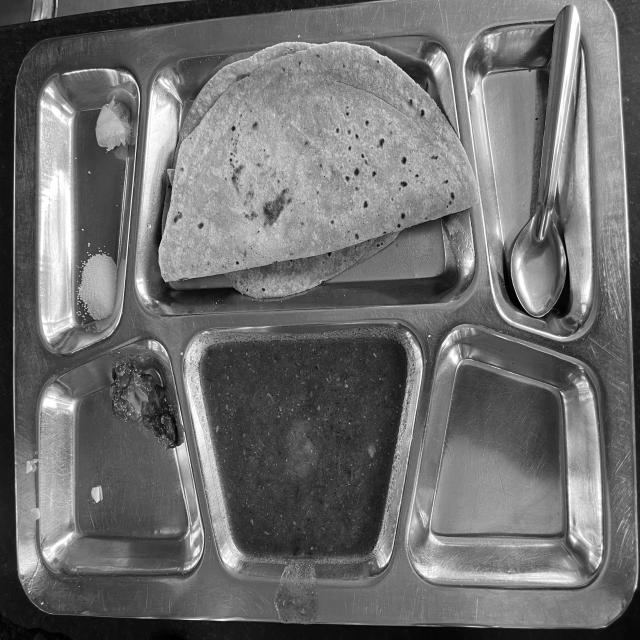20.6- Food Left: (31, 47, 618, 607)
